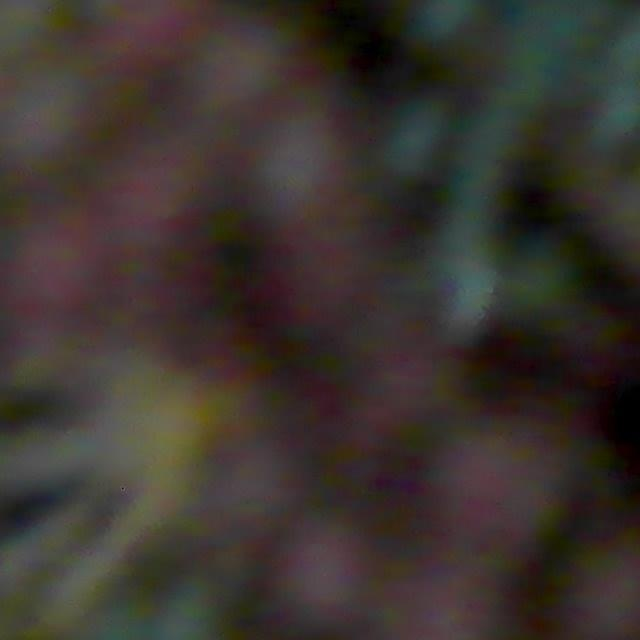SeaGrape: (427, 425, 565, 573), (270, 516, 389, 640), (252, 232, 371, 339), (94, 154, 198, 264), (355, 378, 465, 478), (0, 216, 89, 321), (379, 100, 450, 175)
